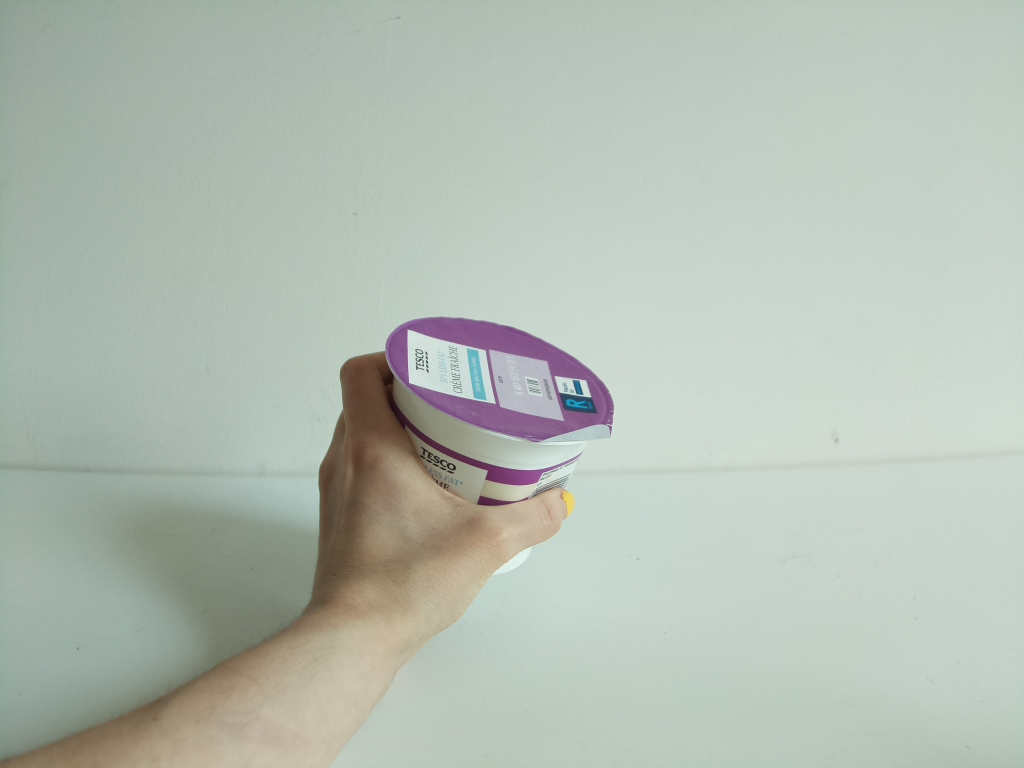cream: (380, 314, 615, 575)
